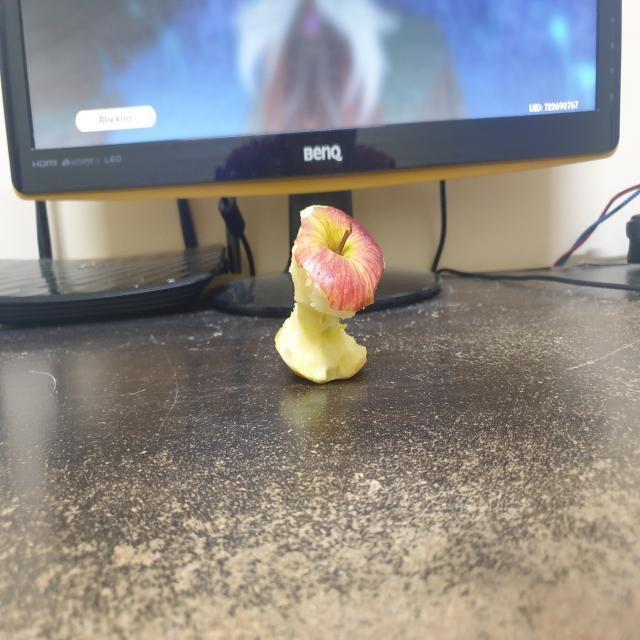apple: (266, 188, 394, 400)
